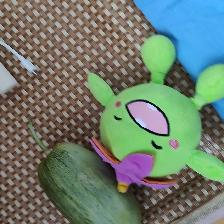gua: (48, 154, 96, 217)
